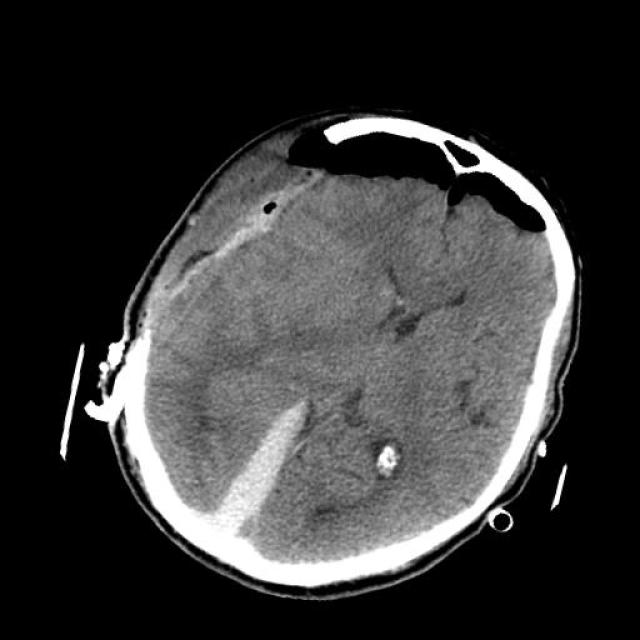Subdural: (192, 381, 323, 578)
